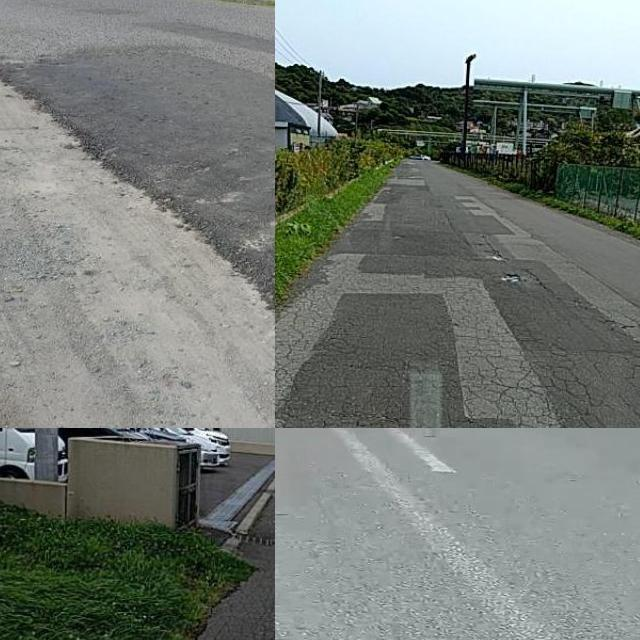Sambungan: (0, 40, 275, 294), (276, 291, 521, 428), (484, 262, 640, 428)
